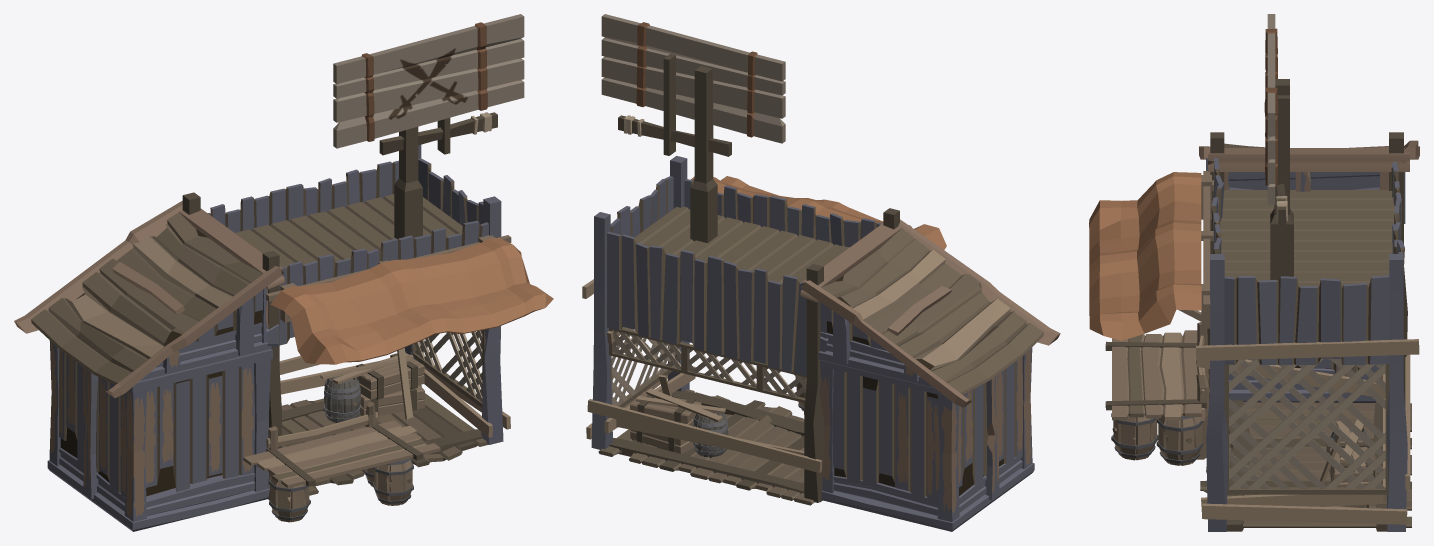
File: SM_Bld_Shop_02.glb
3 renders of one model, left to right at view 1: azimuth 30°, elevation 25°; view 2: azimuth 150°, elevation 25°; view 3: azimuth 270°, elevation 25°, orthographic. The views are drawn at different scales.
Visible parts, largest first — view 1: SM_Bld_Shop_02; view 2: SM_Bld_Shop_02; view 3: SM_Bld_Shop_02.
Part boxes in pixels (bbox=[...]): SM_Bld_Shop_02: bbox=[14, 14, 553, 531]; SM_Bld_Shop_02: bbox=[582, 14, 1060, 531]; SM_Bld_Shop_02: bbox=[1089, 14, 1419, 531].
Bounding box in the file's own units: 0.0786 × 0.0683 × 0.0451.
Materials: 1 (1 with a texture image).
